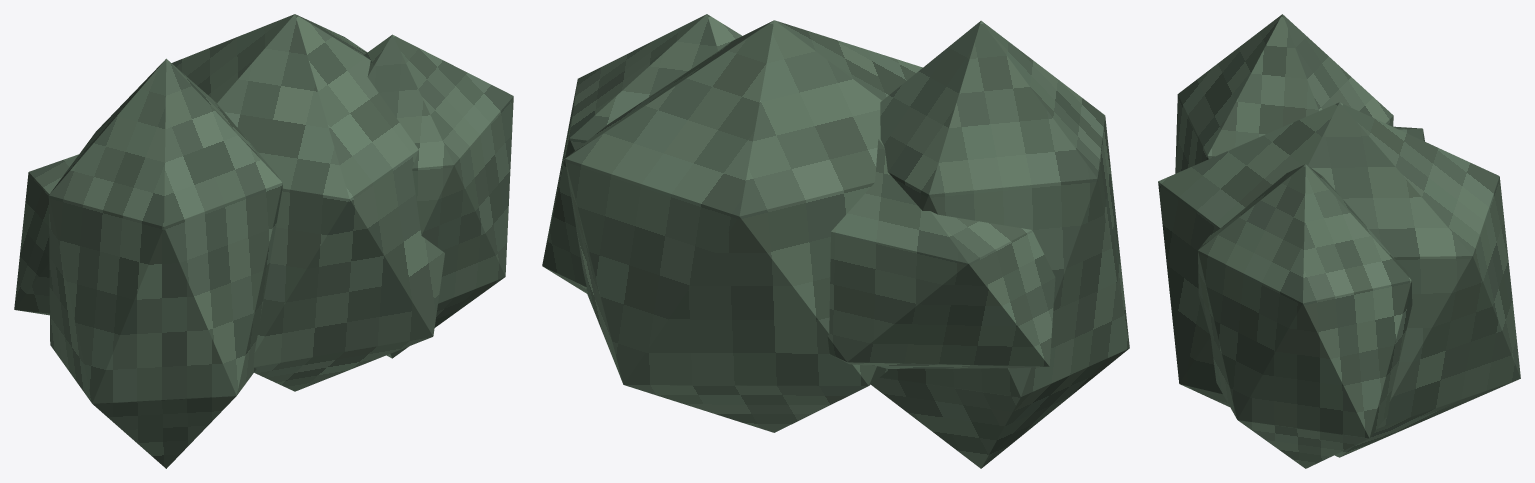
The model's file is ruin_20.glb.
3 views of the same model, side by side, from view 1: azimuth 30°, elevation 25°; view 2: azimuth 150°, elevation 25°; view 3: azimuth 270°, elevation 25° (orthographic). The views are drawn at different scales.
Visible parts, largest first — view 1: WeatheredStone, WeatheredStone.002, WeatheredStone.003, WeatheredStone.001; view 2: WeatheredStone.002, WeatheredStone, WeatheredStone.001, WeatheredStone.003; view 3: WeatheredStone.002, WeatheredStone.003, WeatheredStone.
Boxes of the visible parts, x1=… form: WeatheredStone: x1=48, y1=58, x2=282, y2=468; WeatheredStone.002: x1=172, y1=14, x2=444, y2=391; WeatheredStone.003: x1=364, y1=34, x2=513, y2=358; WeatheredStone.001: x1=14, y1=154, x2=78, y2=315; WeatheredStone.002: x1=565, y1=20, x2=922, y2=432; WeatheredStone: x1=871, y1=20, x2=1129, y2=468; WeatheredStone.001: x1=827, y1=139, x2=1055, y2=368; WeatheredStone.003: x1=542, y1=14, x2=741, y2=293; WeatheredStone.002: x1=1158, y1=102, x2=1520, y2=457; WeatheredStone.003: x1=1198, y1=164, x2=1412, y2=468; WeatheredStone: x1=1175, y1=14, x2=1393, y2=173.
Bounding box in the file's own units: 2.66 × 2.22 × 1.89.
Materials: 1 (1 with a texture image).
